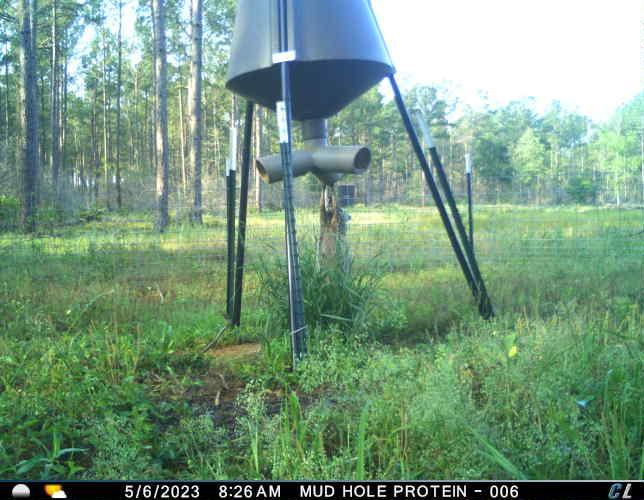Raccoon: (314, 186, 353, 259)
